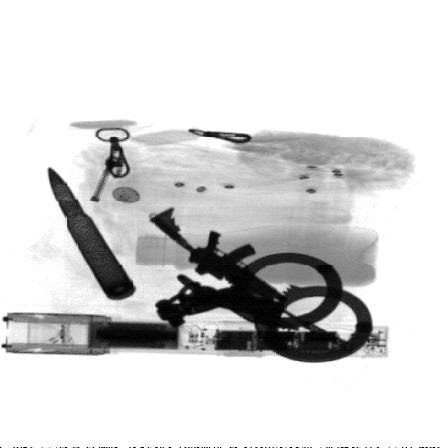Baton: (1, 312, 389, 359)
Bullet: (47, 165, 136, 302)
Gun: (147, 207, 350, 348)
HandCuffs: (151, 254, 373, 362)
